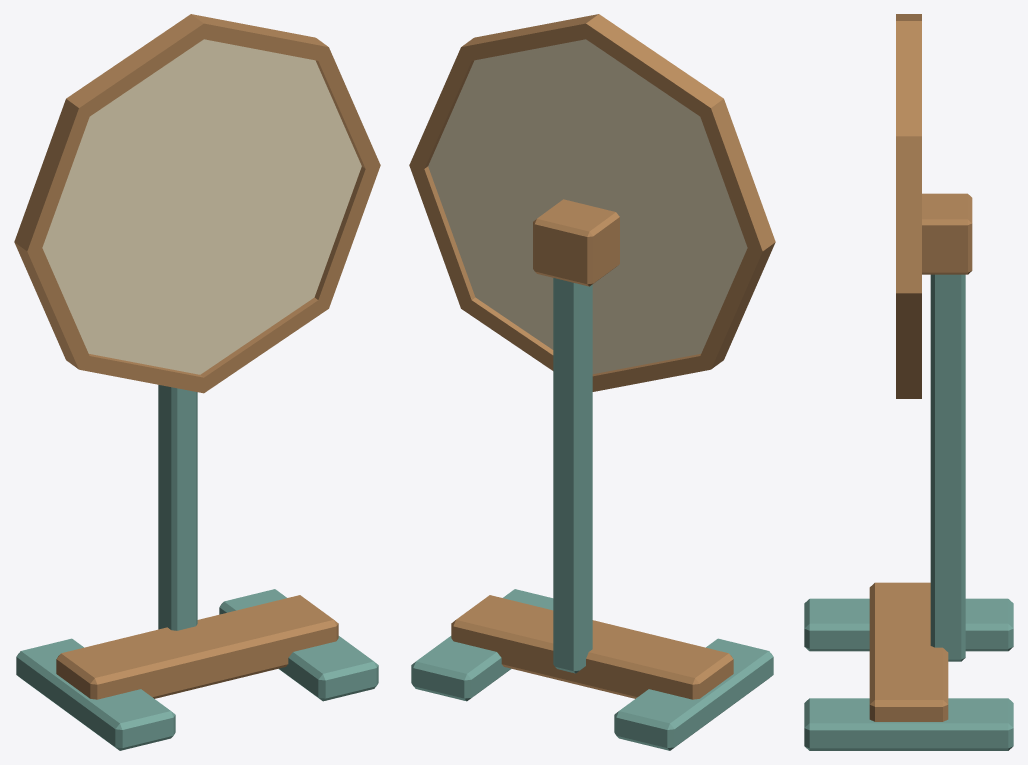
3 views of the same model, side by side, from view 1: azimuth 30°, elevation 25°; view 2: azimuth 150°, elevation 25°; view 3: azimuth 270°, elevation 25° (orthographic).
Parts seen in each view (by area): view 1: photography-reflector-01; view 2: photography-reflector-01; view 3: photography-reflector-01.
Part boxes in pixels (<box>): photography-reflector-01: <box>14,14,380,750</box>; photography-reflector-01: <box>409,14,775,750</box>; photography-reflector-01: <box>804,14,1013,750</box>.
Size of the model in its own units: 0.94 by 1.69 by 0.48.
